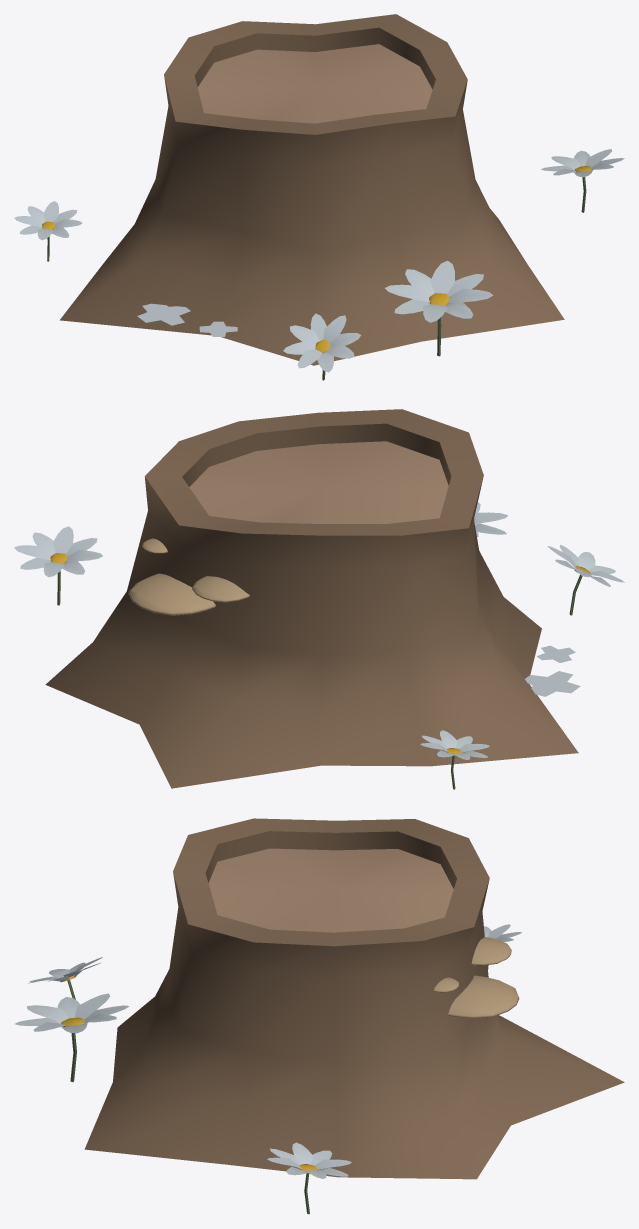
The model's file is P_stump_02.fbx.
3 views of the same model, one above another, from view 1: azimuth 30°, elevation 25°; view 2: azimuth 150°, elevation 25°; view 3: azimuth 270°, elevation 25° (orthographic). The views are drawn at different scales.
Parts seen in each view (by area): view 1: lod1; view 2: lod1; view 3: lod1.
Boxes of the visible parts, x1,y1,x2,y2 form: lod1: (14, 14, 624, 380); lod1: (14, 409, 624, 789); lod1: (14, 818, 624, 1214).
Size of what is drawn, in the model's own units: 1.81 by 0.635 by 1.67.
1 material, 1 textured.
